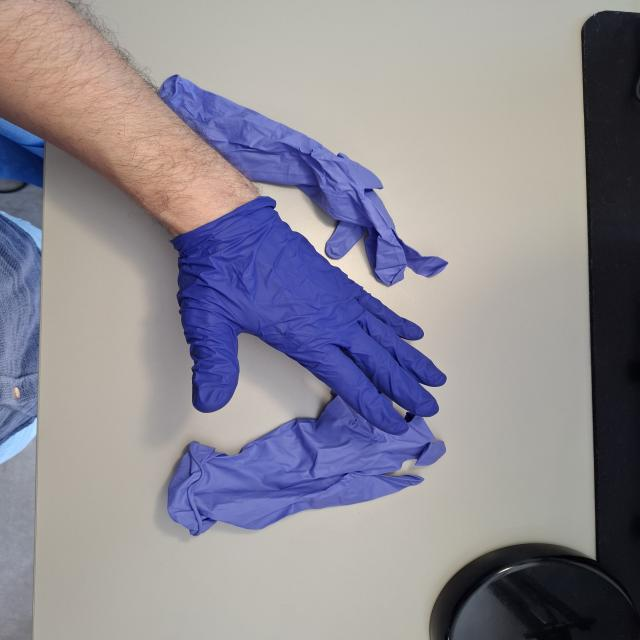glove_on: (162, 195, 450, 436)
